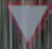Give way: (4, 3, 50, 48)
